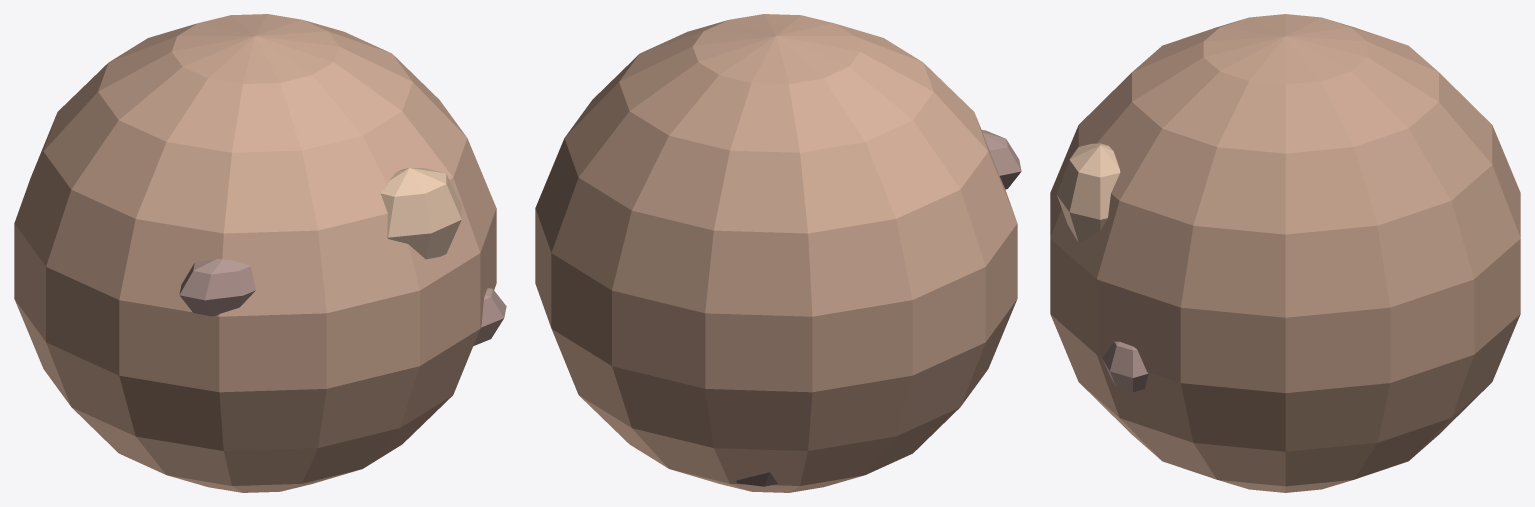
Rendered from meteorito_normal.glb.
The picture shows the model from 3 angles, left to right: view 1: azimuth 30°, elevation 25°; view 2: azimuth 150°, elevation 25°; view 3: azimuth 270°, elevation 25°; orthographic projection.
Visible parts, largest first — view 1: meteorito_normal; view 2: meteorito_normal; view 3: meteorito_normal.
Boxes of the visible parts, box(x1,y1,x2,y2) form: meteorito_normal: box(14, 14, 506, 492); meteorito_normal: box(535, 14, 1021, 492); meteorito_normal: box(1050, 14, 1520, 492).
Size of the model in its own units: 0.8863 by 0.88 by 0.8641.
